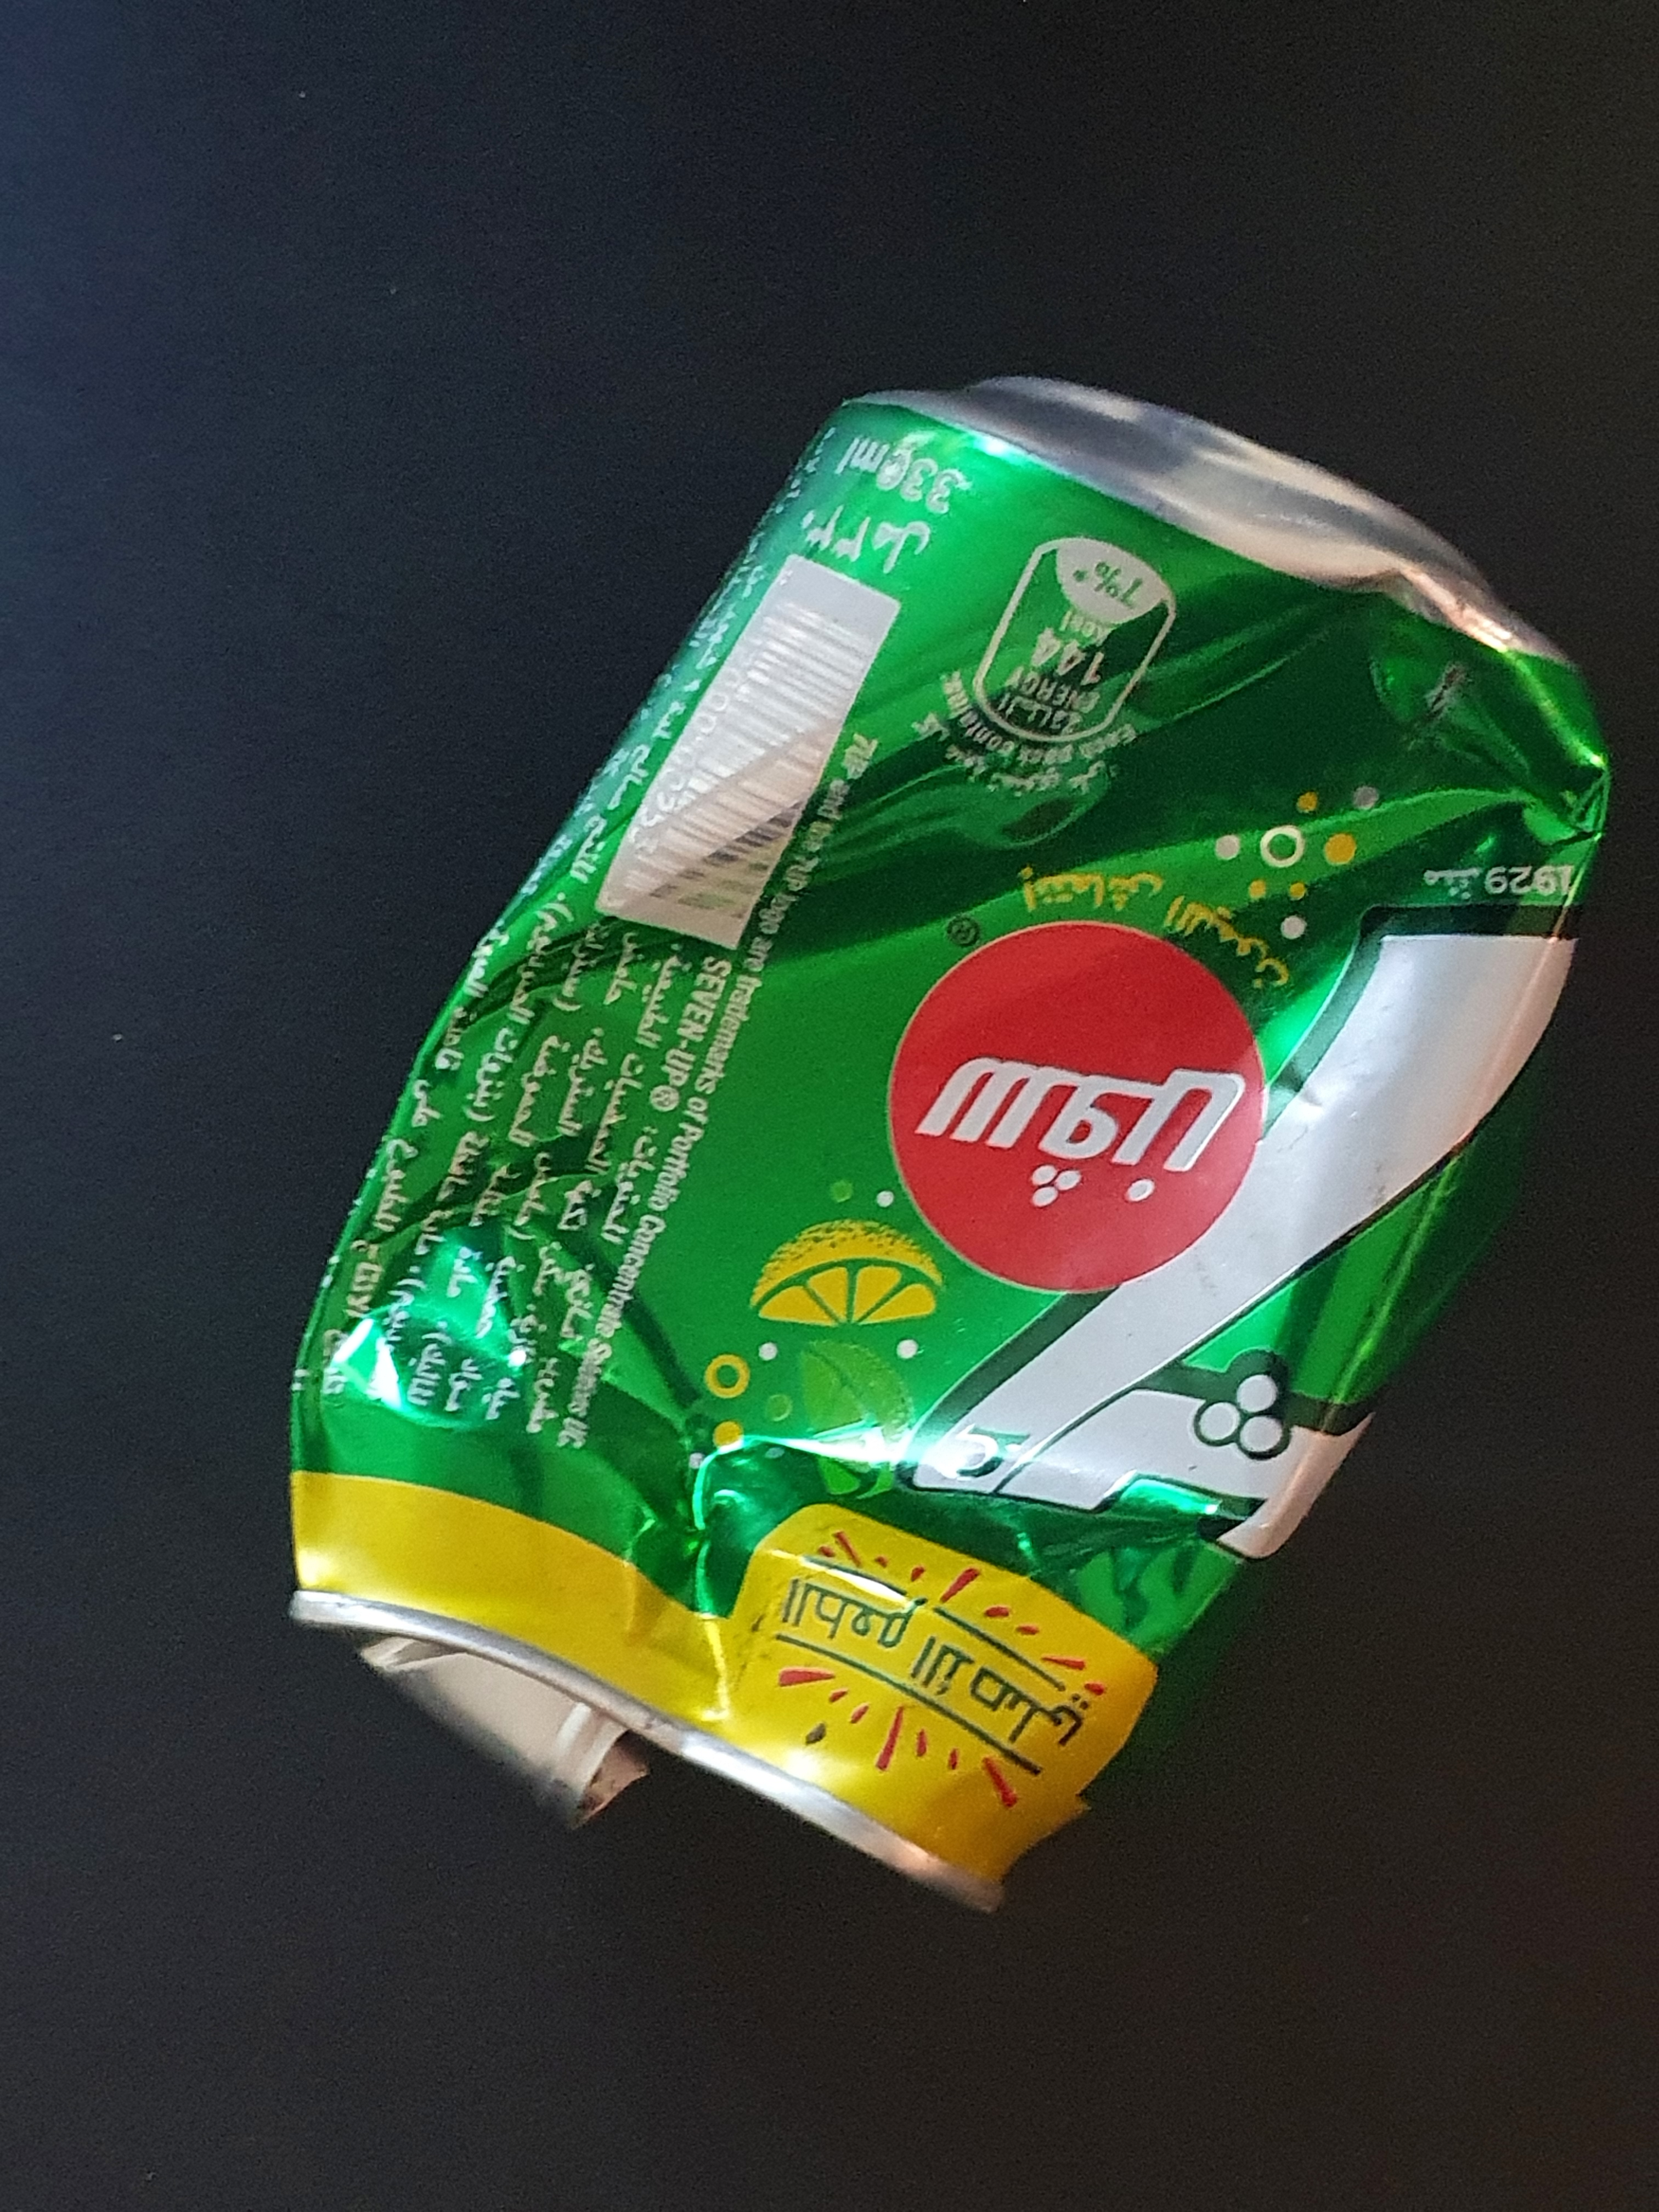metal: (232, 261, 1626, 1982)
